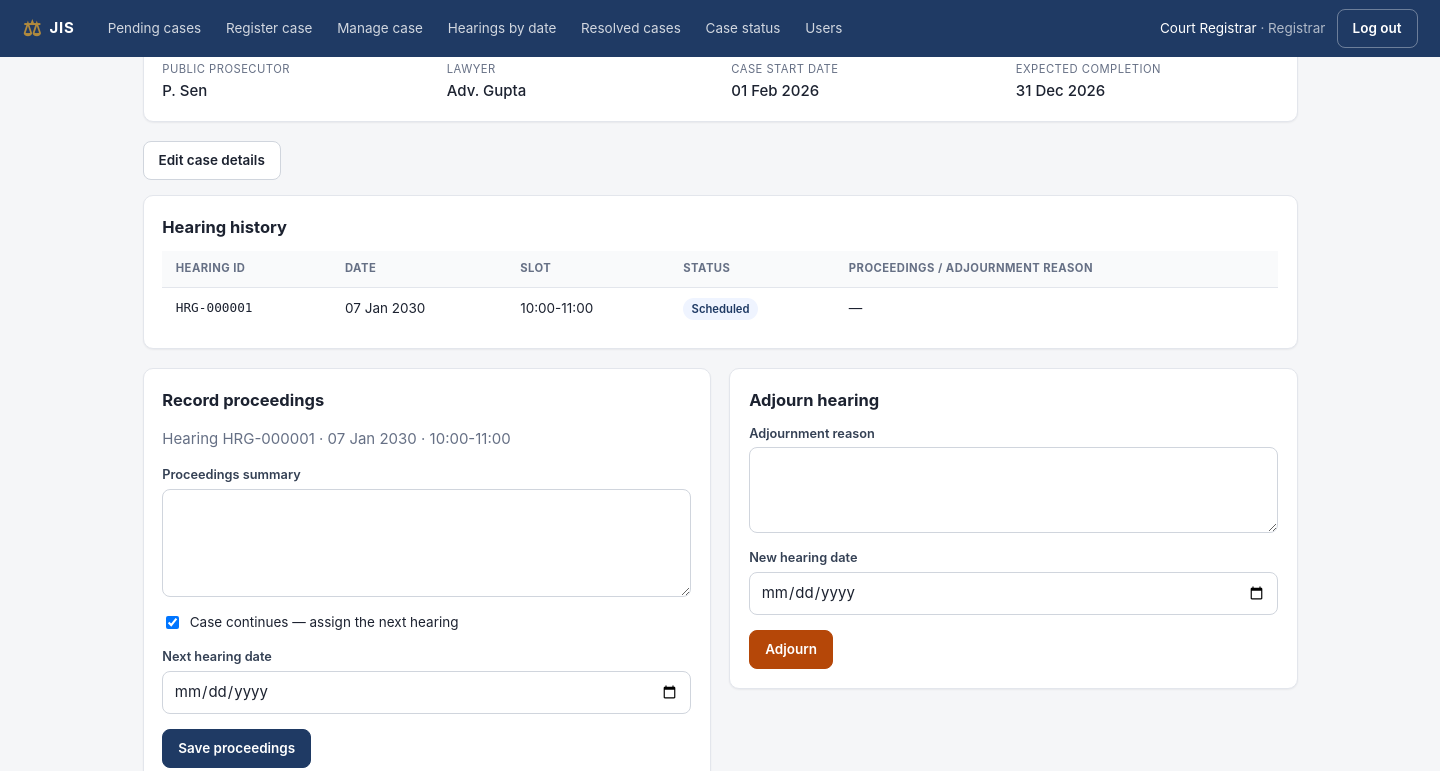
case management › records proceedings without a next hearing
(page scrolled)
In the text box labelled "Proceedings summary": (427, 543) [162,489,691,597], type "Arguments heard"
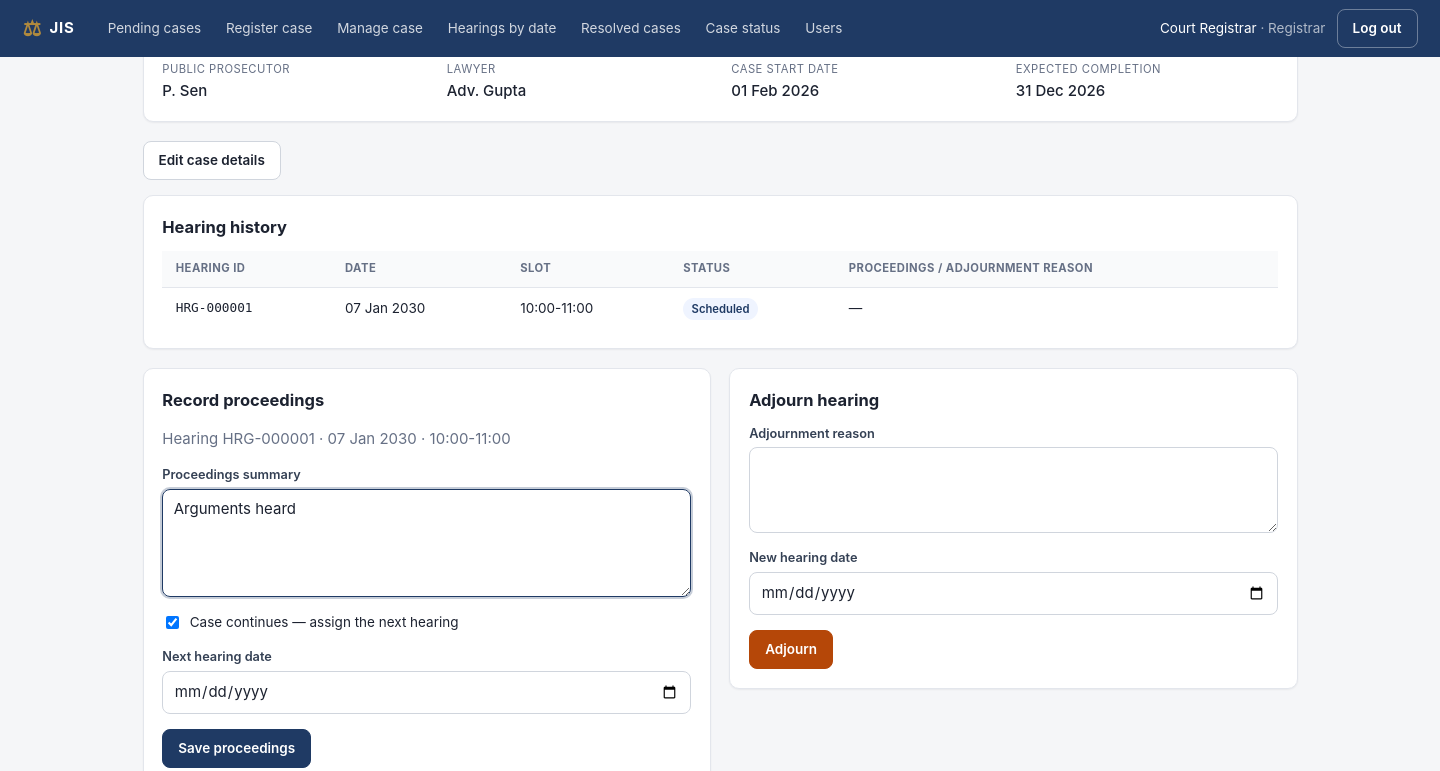
Click the checkbox labelled "Case continues — assign the next hearing": (173, 622) [166,616,179,629]
(page scrolled)
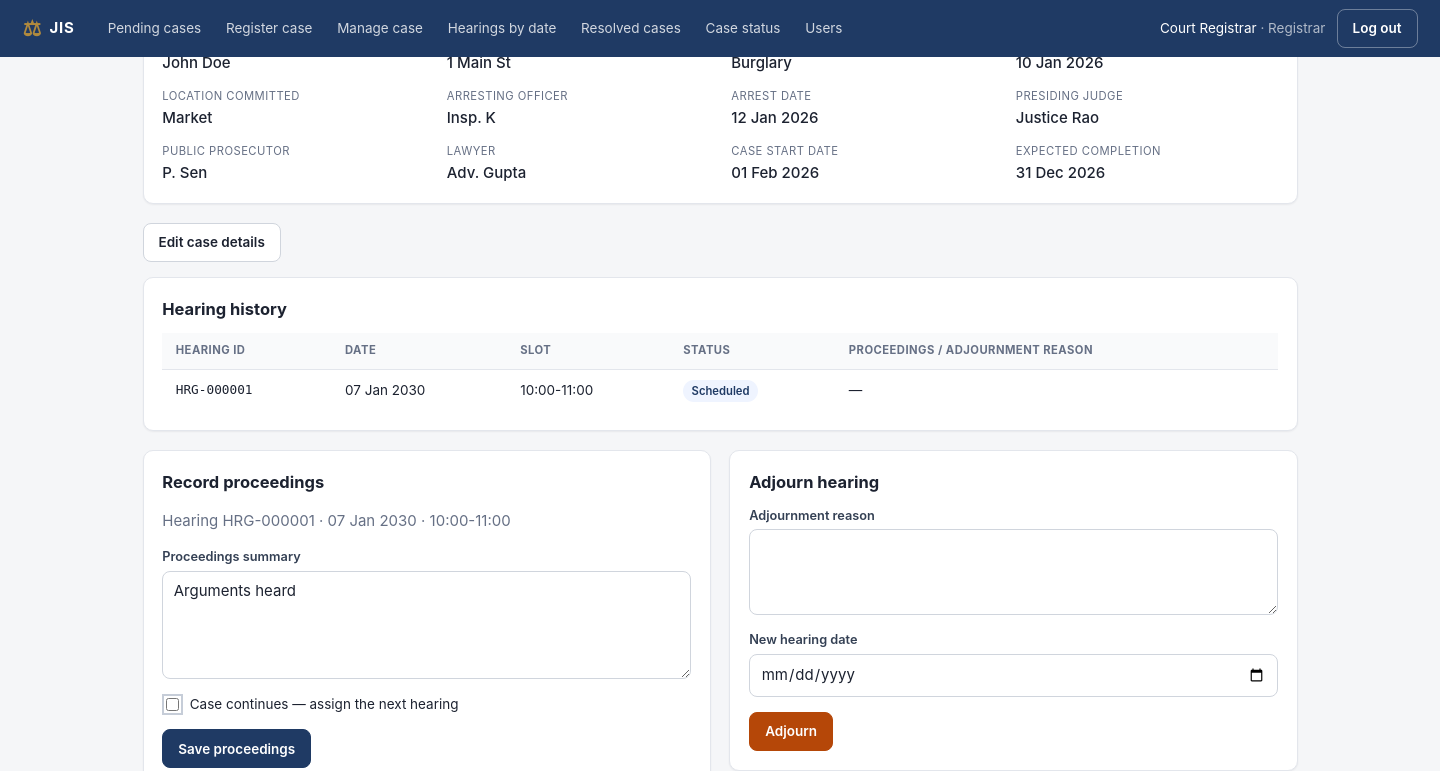
Click the button "Save proceedings": (237, 749) [162,729,311,768]
(page scrolled)
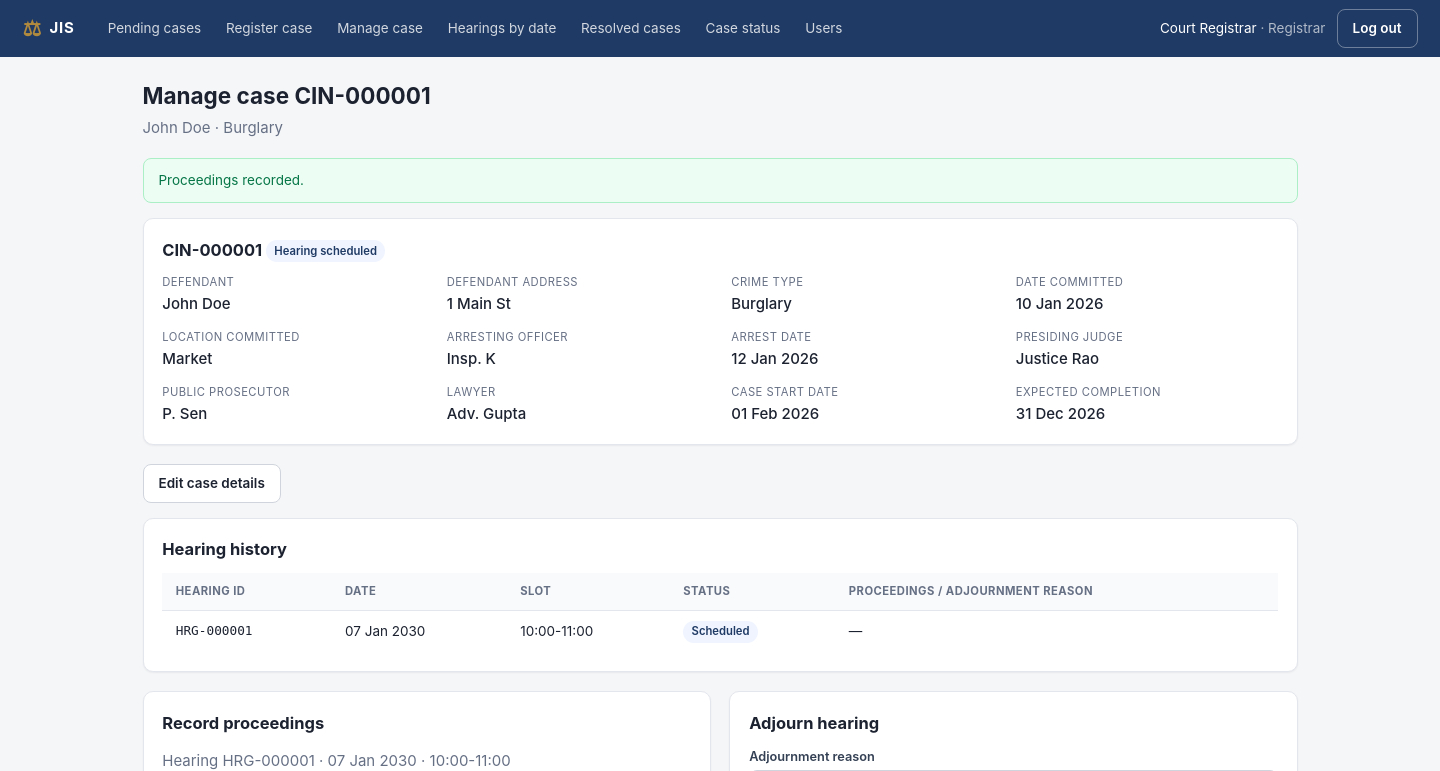
Now the text "Proceedings recorded." is shown, box [142,158,1298,203]
